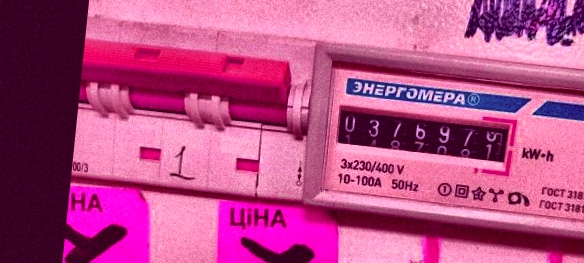0: (341, 112, 356, 133)
1: (481, 141, 494, 160)
3: (365, 116, 380, 137)
6: (412, 118, 427, 140)
7: (388, 116, 403, 139), (459, 125, 474, 148)
9: (436, 122, 450, 144)
screen: (326, 95, 521, 177)
